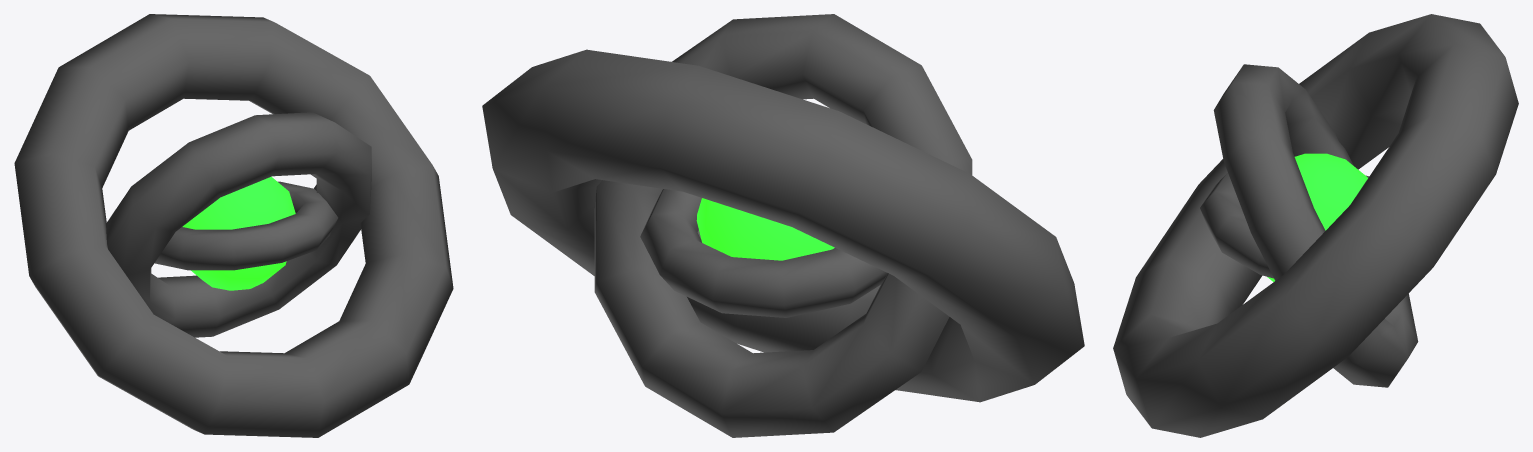
The model's file is PetrificationDevice.glb.
The picture shows the model from 3 angles, left to right: view 1: azimuth 30°, elevation 25°; view 2: azimuth 150°, elevation 25°; view 3: azimuth 270°, elevation 25°; orthographic projection. The views are drawn at different scales.
Parts seen in each view (by area): view 1: RingLarge, RingMid, RingSmall, Orb; view 2: RingLarge, RingMid, RingSmall, Orb; view 3: RingLarge, RingMid, Orb, RingSmall.
Part boxes in pixels (x1,y1,x2,y2): RingLarge: (14,14,453,437); RingMid: (106,112,371,337); RingSmall: (155,181,338,270); Orb: (182,176,295,290); RingLarge: (482,49,1084,402); RingMid: (594,14,972,437); RingSmall: (640,189,887,317); Orb: (696,198,834,260); RingLarge: (1113,14,1518,437); RingMid: (1213,64,1418,387); Orb: (1267,153,1367,281); RingSmall: (1200,172,1369,278).
Size of the model in its own units: 2.5 by 1.89 by 1.91.
